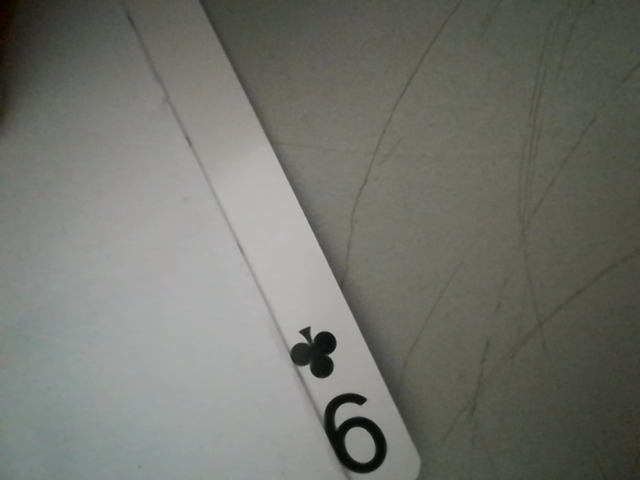mh 9: (285, 315, 412, 480)
